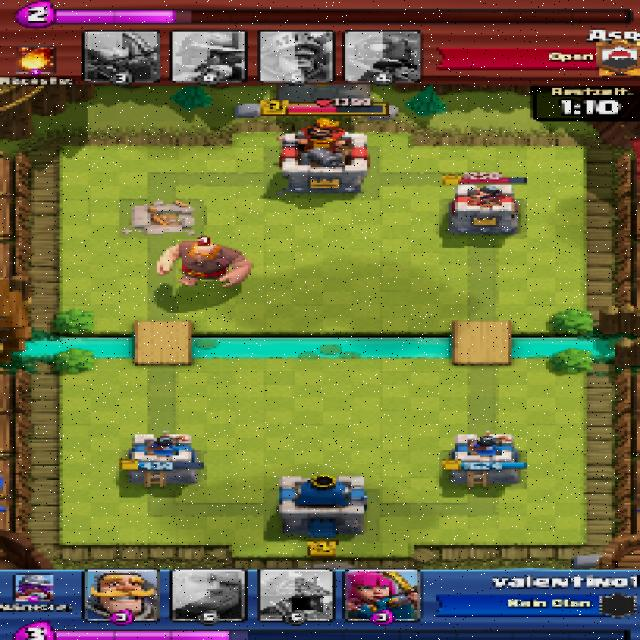Enemy-Giant: (152, 240, 253, 286)
